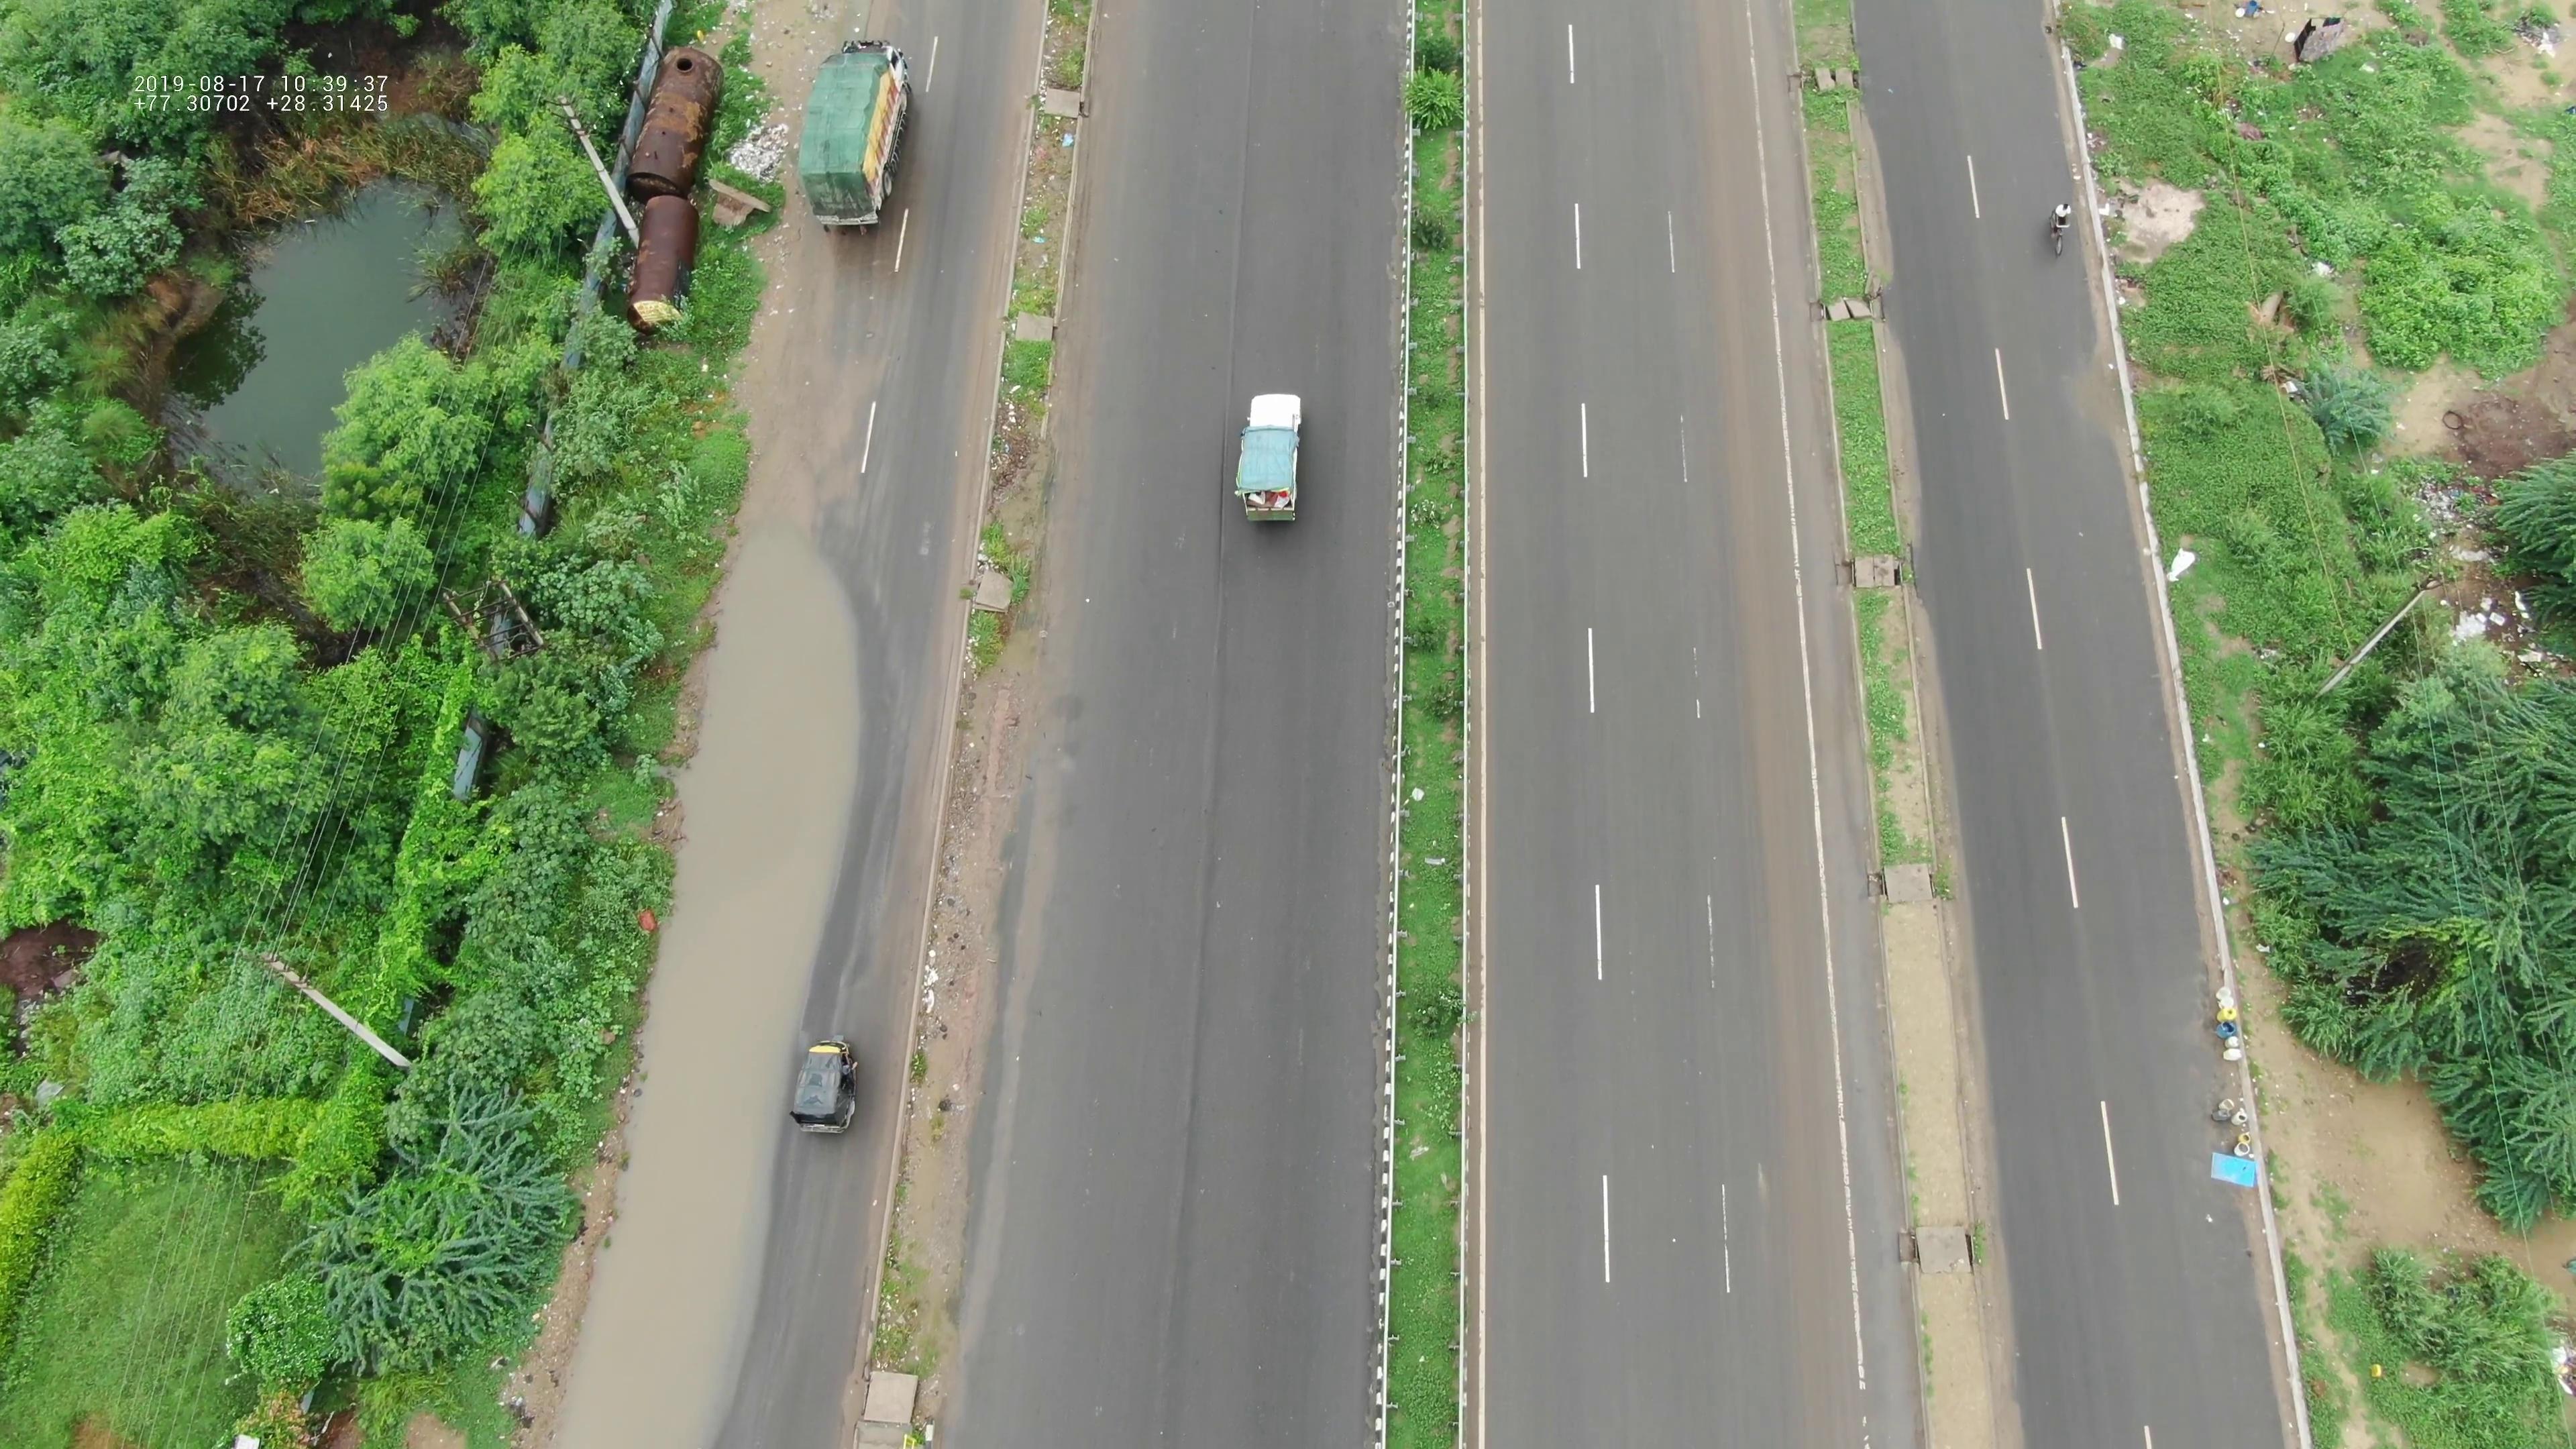Waterlogging: (559, 504, 874, 1444)
